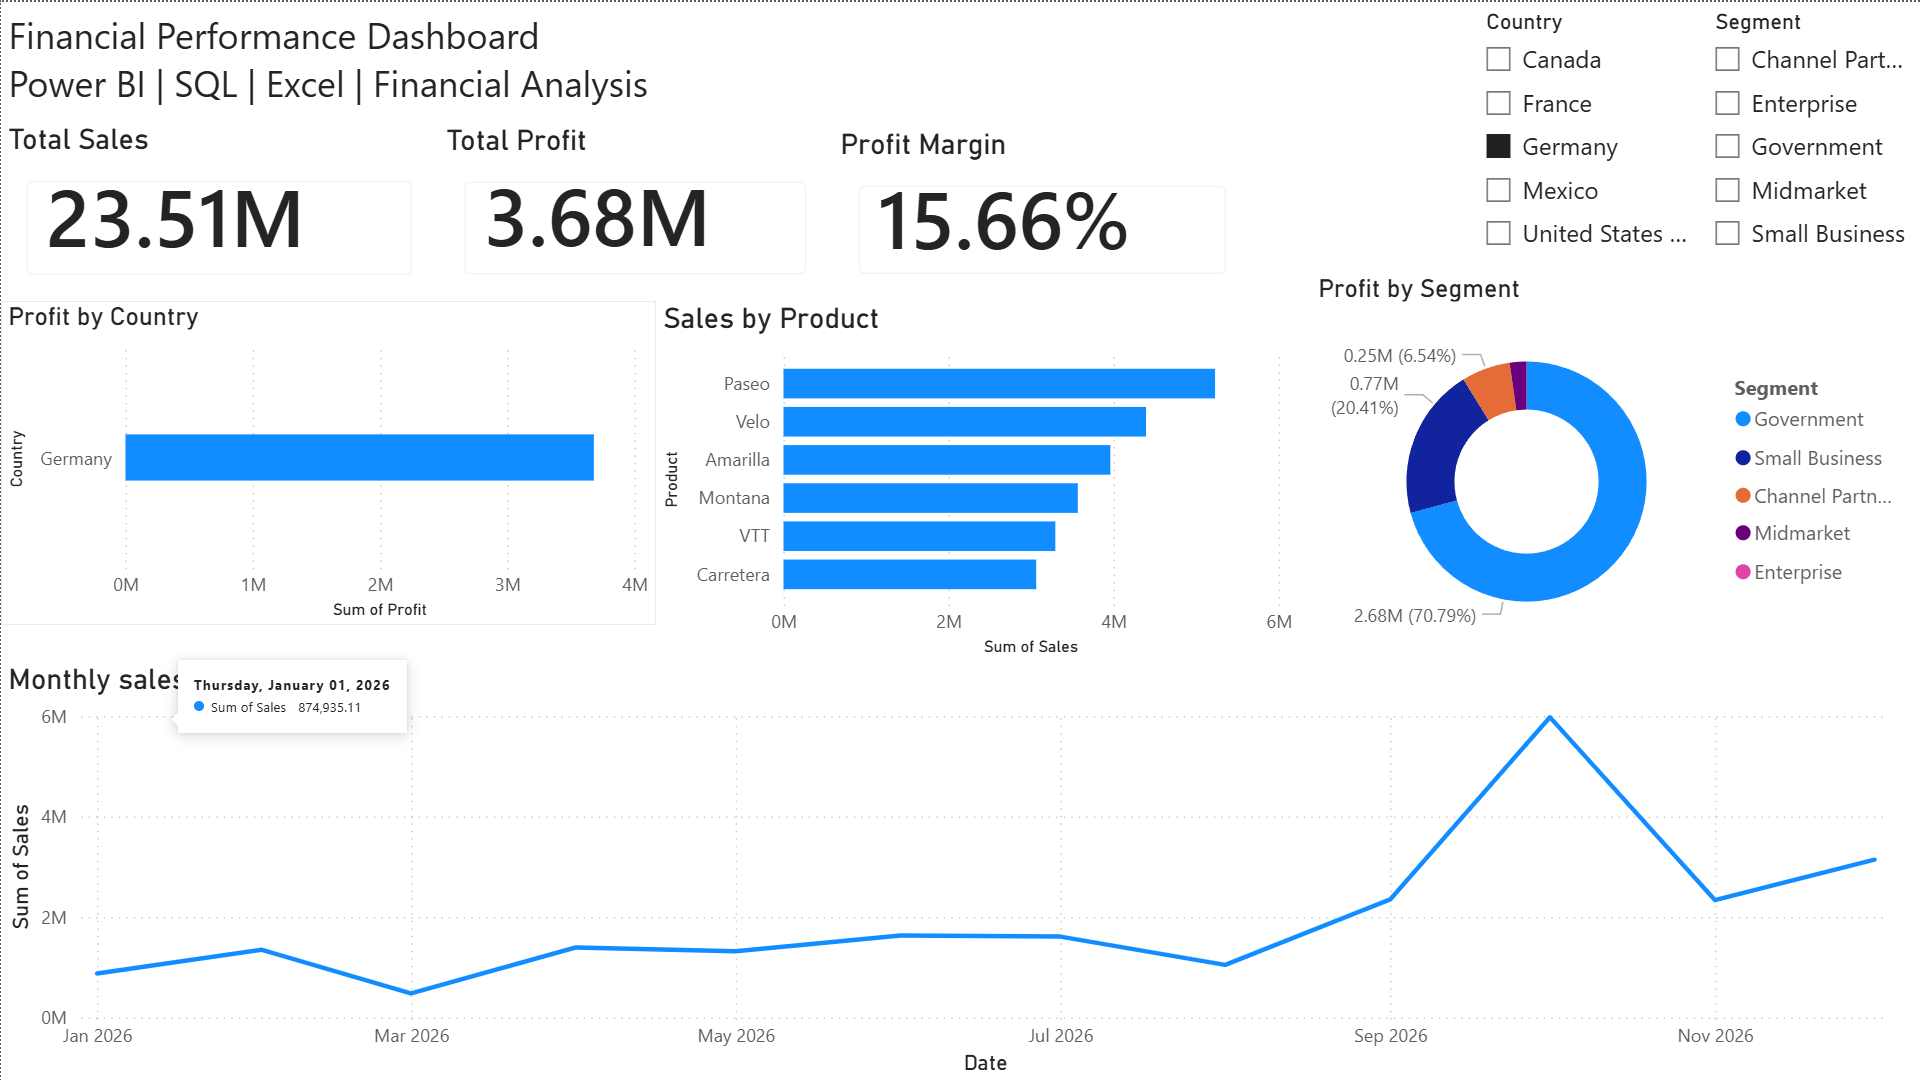

The dashboard page shown, as its layout file describes it:
{"tool":"powerbi","page":{"name":"Page 1","canvas":[1280,720],"ordinal":0},"visuals":[{"type":"cardVisual","title":"Total Sales","fields":{"Data":["Sum(financials. Sales)"]},"box":[0,80,291.8,119.1],"z":0},{"type":"clusteredBarChart","title":"Sales by Product","fields":{"Category":["financials.Product"],"Y":["Sum(financials. Sales)"]},"box":[436.4,199.1,429.1,240.9],"z":1000},{"type":"cardVisual","title":"Total Profit","fields":{"Data":["Sum(financials.Profit)"]},"box":[291.8,80.9,262.7,118.2],"z":1001},{"type":"cardVisual","title":"Profit Margin","fields":{"Data":["financials.Profit Margin %"]},"box":[554.5,83.6,279.1,115.5],"z":1002},{"type":"lineChart","title":"Monthly sales trend","fields":{"Y":["Sum(financials.Sales)"],"Category":["financials.Date"]},"box":[0,440,1280,280],"z":1003},{"type":"clusteredBarChart","title":"Profit by Country","fields":{"Category":["financials.Country"],"Y":["Sum(financials.Profit)"]},"box":[0,199.1,436.4,216.4],"z":1004},{"type":"textbox","box":[0,0,563.6,80],"z":1005},{"type":"slicer","fields":{"Values":["financials.Country"]},"box":[977.3,0,152.7,180.9],"z":1006},{"type":"slicer","fields":{"Values":["financials.Segment"]},"box":[1130,0,150,180.9],"z":1007},{"type":"donutChart","title":"Profit by Segment","fields":{"Category":["financials.Segment"],"Y":["Sum(financials.Profit)"]},"box":[873.6,180.9,406.4,259.1],"z":1008}]}

Visuals, with their boxes in screenshot pixels (x1, y1, x2, y2), scaled from the page's 1280x720 canvas onto the 1921x1080 screenshot:
"Total Sales" cardVisual: BBox(0, 120, 438, 299)
"Sales by Product" clusteredBarChart: BBox(655, 299, 1299, 660)
"Total Profit" cardVisual: BBox(438, 121, 832, 299)
"Profit Margin" cardVisual: BBox(832, 125, 1251, 299)
"Monthly sales trend" lineChart: BBox(0, 660, 1920, 1079)
"Profit by Country" clusteredBarChart: BBox(0, 299, 655, 623)
textbox: BBox(0, 0, 846, 120)
slicer - financials.Country: BBox(1467, 0, 1696, 271)
slicer - financials.Segment: BBox(1696, 0, 1920, 271)
"Profit by Segment" donutChart: BBox(1311, 271, 1920, 660)
